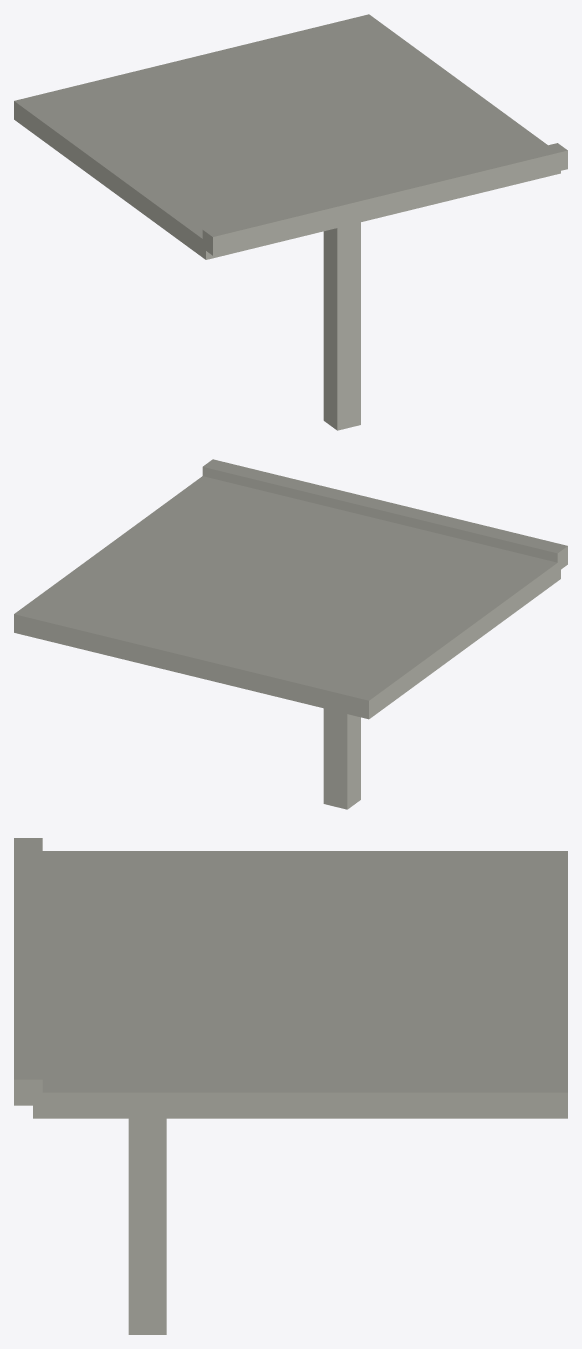
The model's file is SM_KitMarquesina_v5_LOD1.fbx.
3 renders of one model, top to bottom at view 1: azimuth 30°, elevation 25°; view 2: azimuth 150°, elevation 25°; view 3: azimuth 270°, elevation 25°, orthographic. The views are drawn at different scales.
Parts seen in each view (by area): view 1: SM_bloques.kit_marquesina_v5_LOD1; view 2: SM_bloques.kit_marquesina_v5_LOD1; view 3: SM_bloques.kit_marquesina_v5_LOD1.
Part boxes in pixels (x1,y1,x2,y2): SM_bloques.kit_marquesina_v5_LOD1: (14, 14, 567, 430); SM_bloques.kit_marquesina_v5_LOD1: (14, 459, 567, 809); SM_bloques.kit_marquesina_v5_LOD1: (14, 838, 567, 1334).
Bounding box in the file's own units: 5.98 × 4.25 × 5.8.
